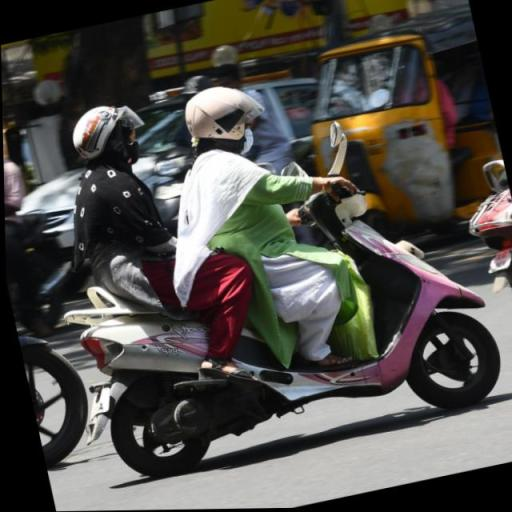Helmet: (169, 67, 285, 166), (63, 94, 157, 180)
Motor: (42, 192, 491, 462)
